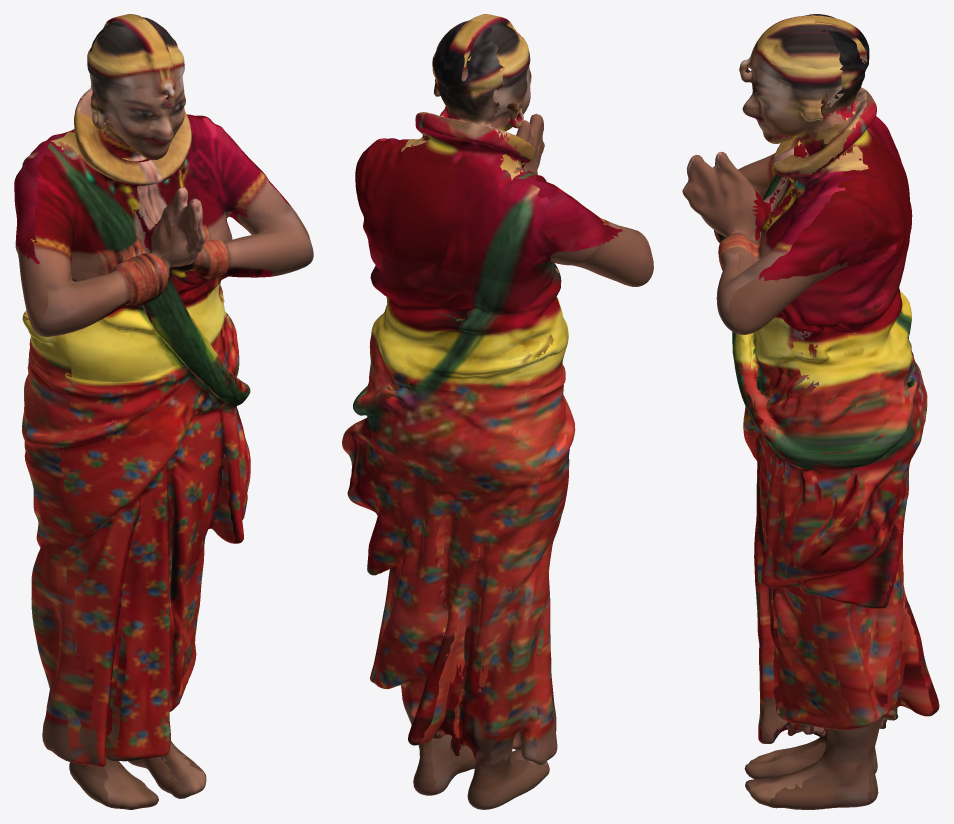
The model's file is nepali_woman_v2.glb.
3 views of the same model, side by side, from view 1: azimuth 30°, elevation 25°; view 2: azimuth 150°, elevation 25°; view 3: azimuth 270°, elevation 25° (orthographic).
Visible parts, largest first — view 1: gunyu, cholo, arms, pote, patuka, head, kantha, feet, chura, shirbandi; view 2: gunyu, cholo, patuka, pote, head, kantha, feet, arms, shirbandi; view 3: gunyu, cholo, pote, arms, patuka, head, feet, kantha, shirbandi, chura.
Boxes of the visible parts, x1=… form: gunyu: x1=22, y1=334, x2=250, y2=766; cholo: x1=14, y1=114, x2=291, y2=311; arms: x1=15, y1=187, x2=313, y2=336; pote: x1=18, y1=144, x2=250, y2=418; patuka: x1=22, y1=276, x2=236, y2=381; head: x1=77, y1=14, x2=185, y2=155; kantha: x1=50, y1=100, x2=202, y2=195; feet: x1=47, y1=740, x2=206, y2=809; chura: x1=96, y1=223, x2=230, y2=306; shirbandi: x1=87, y1=19, x2=184, y2=104; gunyu: x1=342, y1=347, x2=575, y2=766; cholo: x1=355, y1=138, x2=622, y2=315; patuka: x1=370, y1=276, x2=568, y2=397; pote: x1=353, y1=175, x2=570, y2=419; head: x1=420, y1=20, x2=531, y2=133; kantha: x1=398, y1=112, x2=535, y2=180; feet: x1=413, y1=742, x2=555, y2=809; arms: x1=516, y1=113, x2=653, y2=286; shirbandi: x1=432, y1=14, x2=530, y2=98; gunyu: x1=743, y1=351, x2=939, y2=763; cholo: x1=714, y1=116, x2=912, y2=323; pote: x1=732, y1=140, x2=914, y2=471; arms: x1=682, y1=151, x2=847, y2=334; patuka: x1=737, y1=291, x2=914, y2=401; head: x1=739, y1=14, x2=870, y2=139; feet: x1=744, y1=731, x2=878, y2=809; kantha: x1=762, y1=94, x2=878, y2=201; shirbandi: x1=739, y1=15, x2=869, y2=91; chura: x1=714, y1=230, x2=768, y2=270.
Bounding box in the file's own units: 0.6002 × 1.58 × 0.4765.
10 materials, 10 textured.
